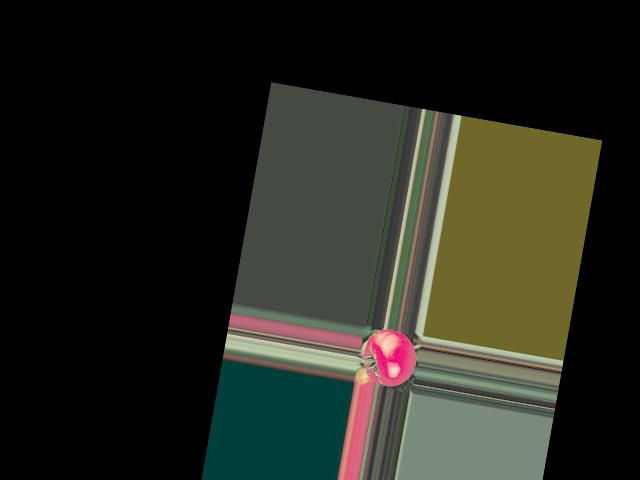tomato: (359, 326, 421, 389)
